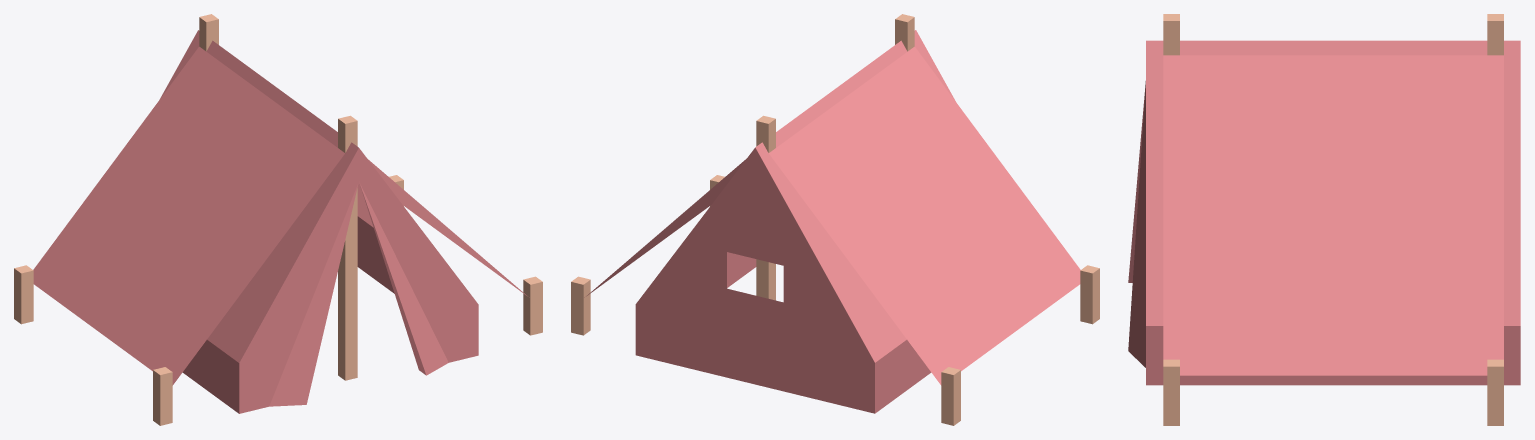
File: tent_detailedOpen.gltf
3 views of the same model, side by side, from view 1: azimuth 30°, elevation 25°; view 2: azimuth 150°, elevation 25°; view 3: azimuth 270°, elevation 25° (orthographic). The views are drawn at different scales.
Visible parts, largest first — view 1: tent_detailedOpen; view 2: tent_detailedOpen; view 3: tent_detailedOpen.
Boxes of the visible parts, x1,y1,x2,y2 form: tent_detailedOpen: [14, 14, 542, 425]; tent_detailedOpen: [571, 14, 1099, 425]; tent_detailedOpen: [1128, 14, 1520, 425].
Size of the model in its own units: 0.8749 by 0.5611 by 0.6664.
